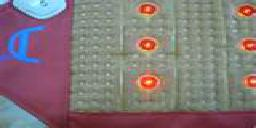LED: (138, 73, 163, 92), (137, 34, 159, 52), (135, 2, 161, 17)
